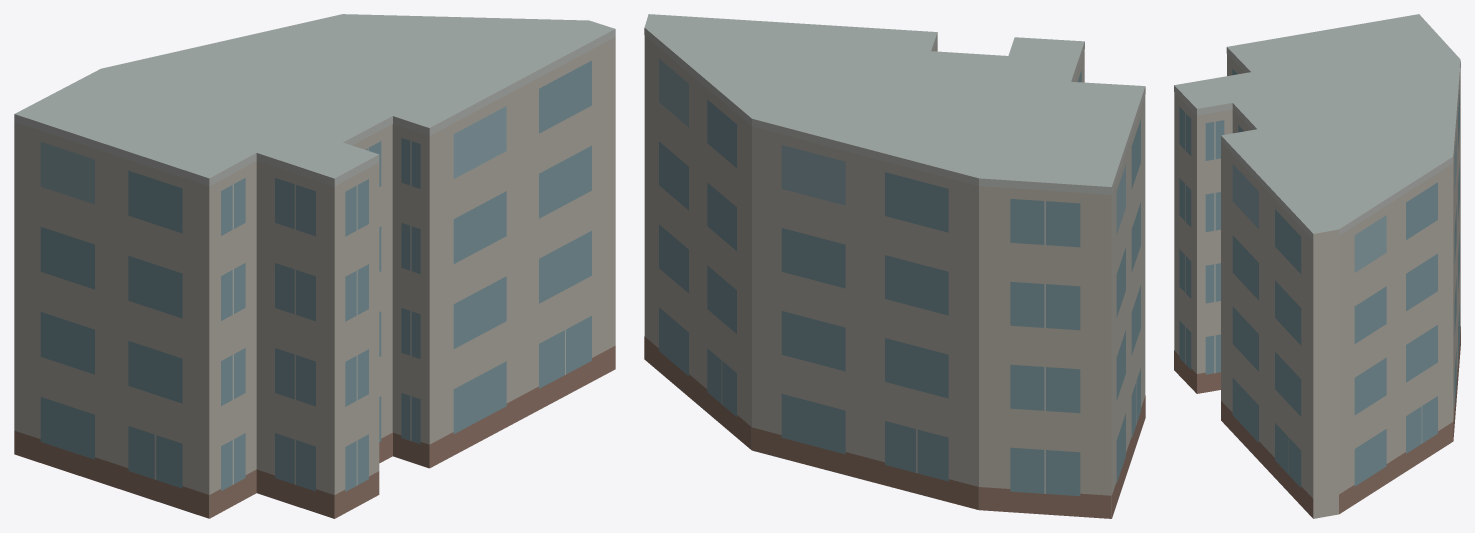
The model's file is survey-upis-32649144.glb.
3 views of the same model, side by side, from view 1: azimuth 30°, elevation 25°; view 2: azimuth 150°, elevation 25°; view 3: azimuth 270°, elevation 25° (orthographic). The views are drawn at different scales.
Parts seen in each view (by area): view 1: survey-upis-32649144.tmp; view 2: survey-upis-32649144.tmp; view 3: survey-upis-32649144.tmp.
Boxes of the visible parts, left/top/right/bottom form: survey-upis-32649144.tmp: left=14, top=14, right=615, bottom=518; survey-upis-32649144.tmp: left=644, top=14, right=1145, bottom=518; survey-upis-32649144.tmp: left=1174, top=14, right=1460, bottom=518.
Size of the model in its own units: 17.39 by 10.5 by 9.58.
